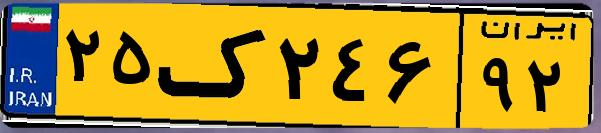2: (270, 28, 330, 110), (57, 26, 110, 100), (525, 38, 570, 115)
4: (330, 28, 385, 110)
5: (110, 28, 158, 98)
6: (385, 28, 445, 110)
9: (475, 38, 525, 113)
ک: (158, 12, 270, 120)
